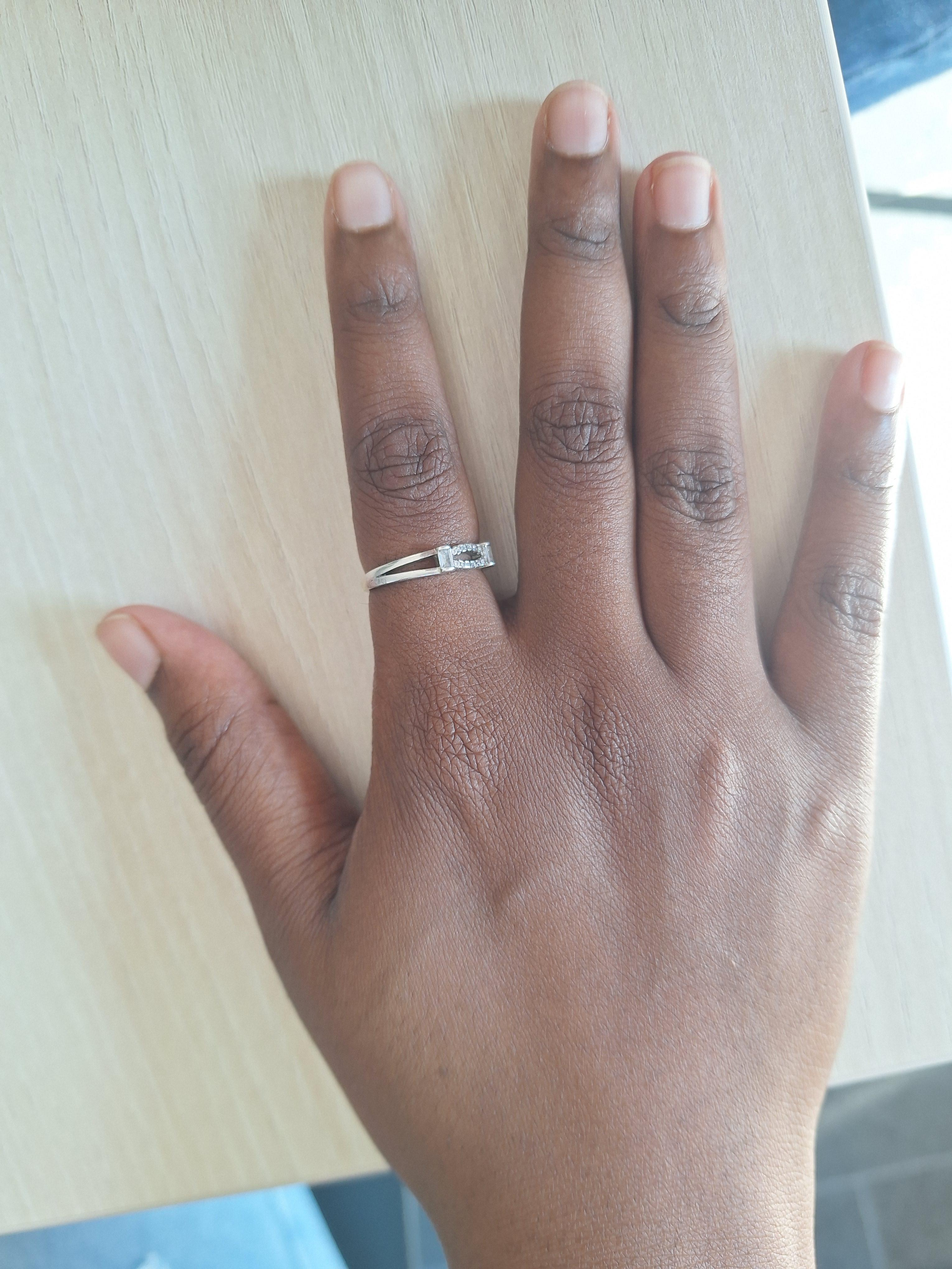Fingernail: (95, 615, 161, 693), (547, 80, 608, 157), (333, 160, 394, 232), (652, 156, 712, 229), (861, 345, 907, 412)
